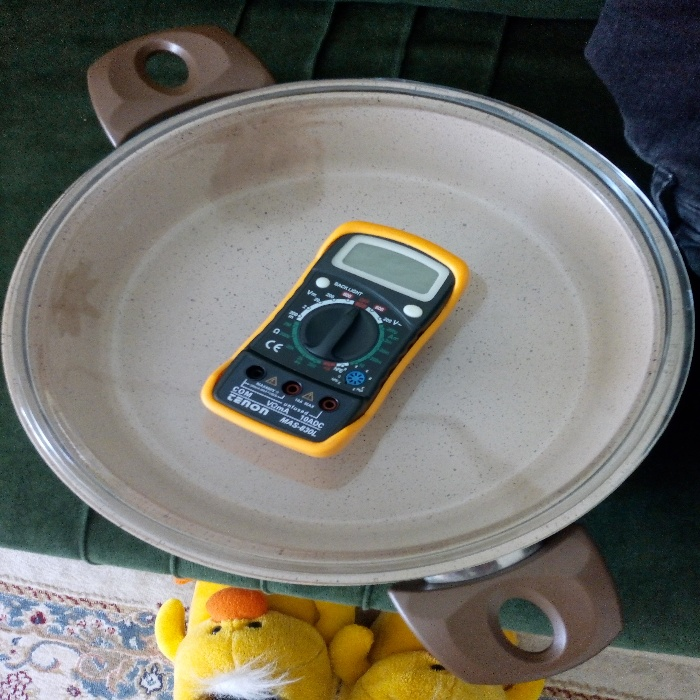multimetre: (195, 216, 483, 460)
